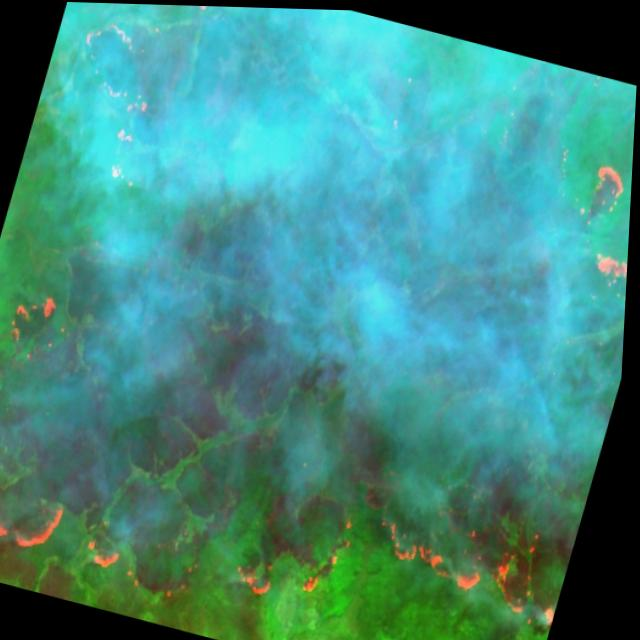fire: (0, 258, 618, 640), (43, 1, 232, 212), (543, 144, 635, 321)
